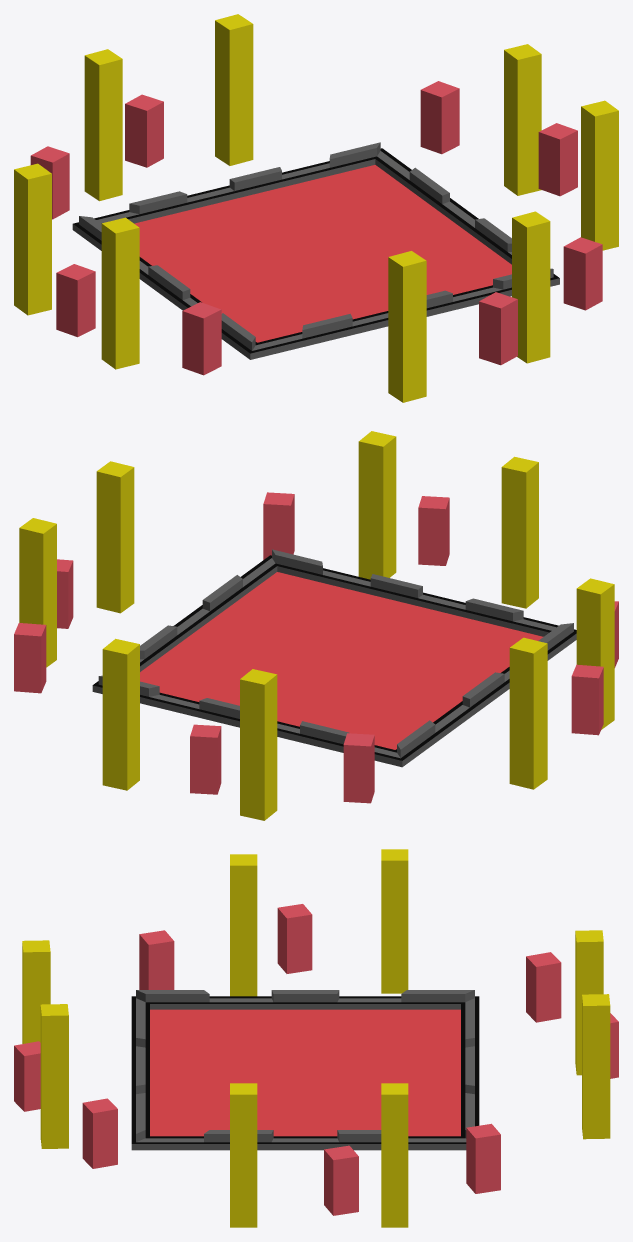
Rendered from plateaus.glb.
The picture shows the model from 3 angles, top to bottom: view 1: azimuth 30°, elevation 25°; view 2: azimuth 150°, elevation 25°; view 3: azimuth 270°, elevation 25°; orthographic projection. The views are drawn at different scales.
Visible parts, largest first — view 1: Cube008, Cube; view 2: Cube008, Cube; view 3: Cube, Cube008.
Part boxes in pixels (bbox=[...]): Cube008: bbox=[14, 14, 618, 402]; Cube: bbox=[72, 142, 559, 359]; Cube008: bbox=[14, 431, 618, 820]; Cube: bbox=[92, 549, 576, 767]; Cube: bbox=[131, 990, 479, 1150]; Cube008: bbox=[14, 849, 618, 1227].
Size of the model in its own units: 7.18 by 1.74 by 7.15.
